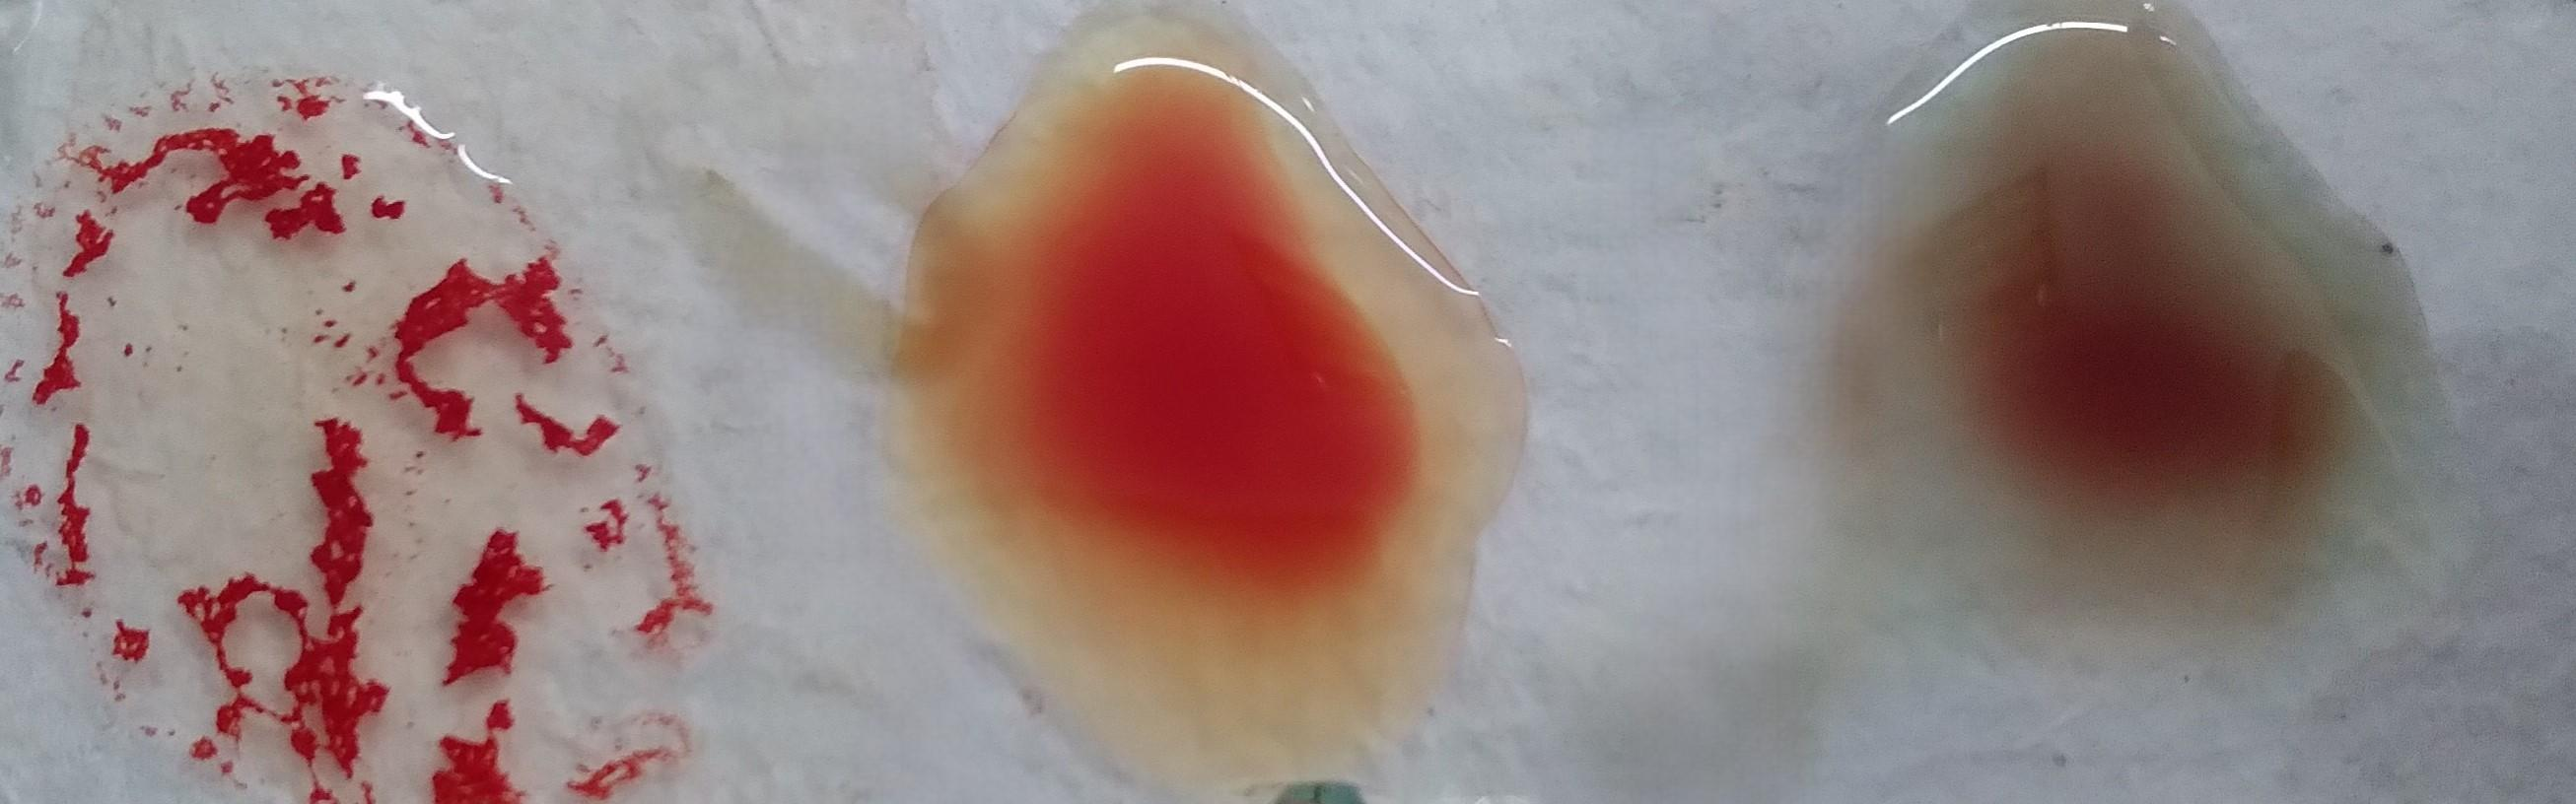D: (0, 74, 703, 804)
